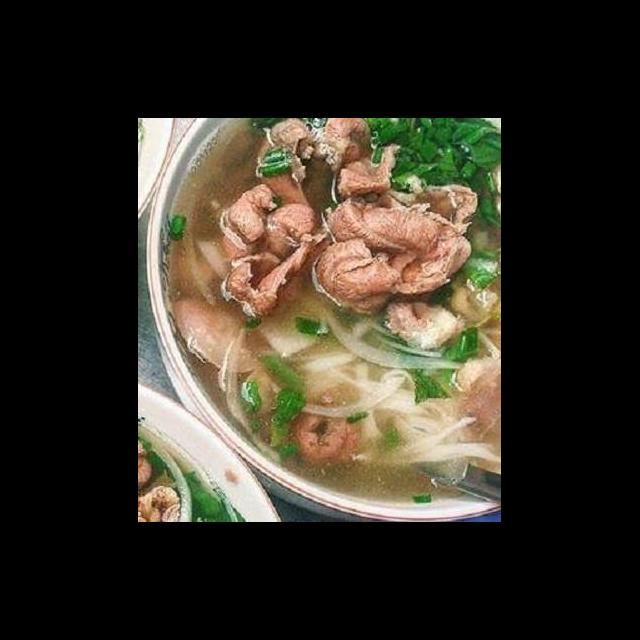banh pho: (362, 392, 502, 467), (296, 348, 418, 417)
pho bo: (159, 136, 502, 485)
thit bo: (310, 167, 482, 319), (170, 294, 290, 419), (218, 181, 320, 326), (372, 285, 470, 358), (250, 119, 324, 208), (288, 404, 372, 470), (332, 138, 406, 208), (456, 356, 502, 434), (308, 119, 370, 174), (140, 443, 183, 522)
